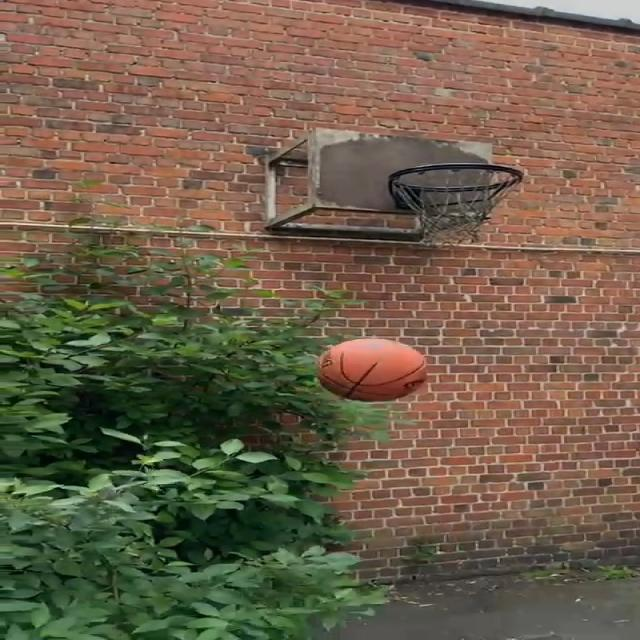Basketball: (318, 339, 426, 400)
